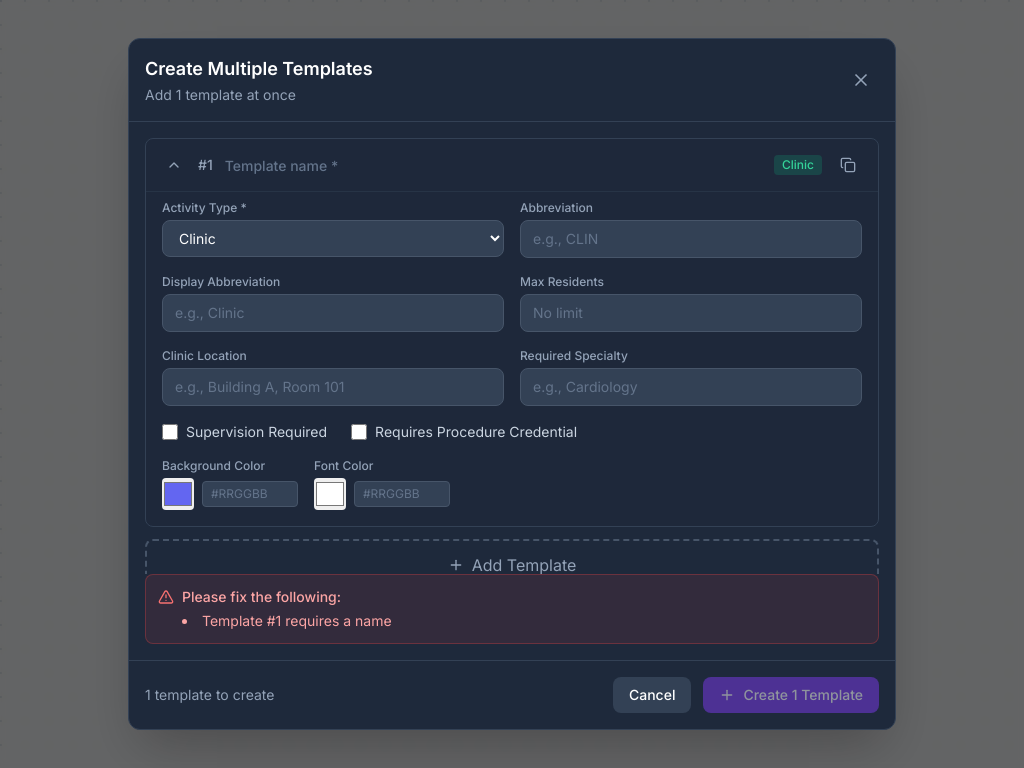
Test: BulkCreateModal › Template Management › should remove template when remove button is clicked
Note: Add second template
Click the button "Add Template" at (512, 565), box [145,539,879,591]
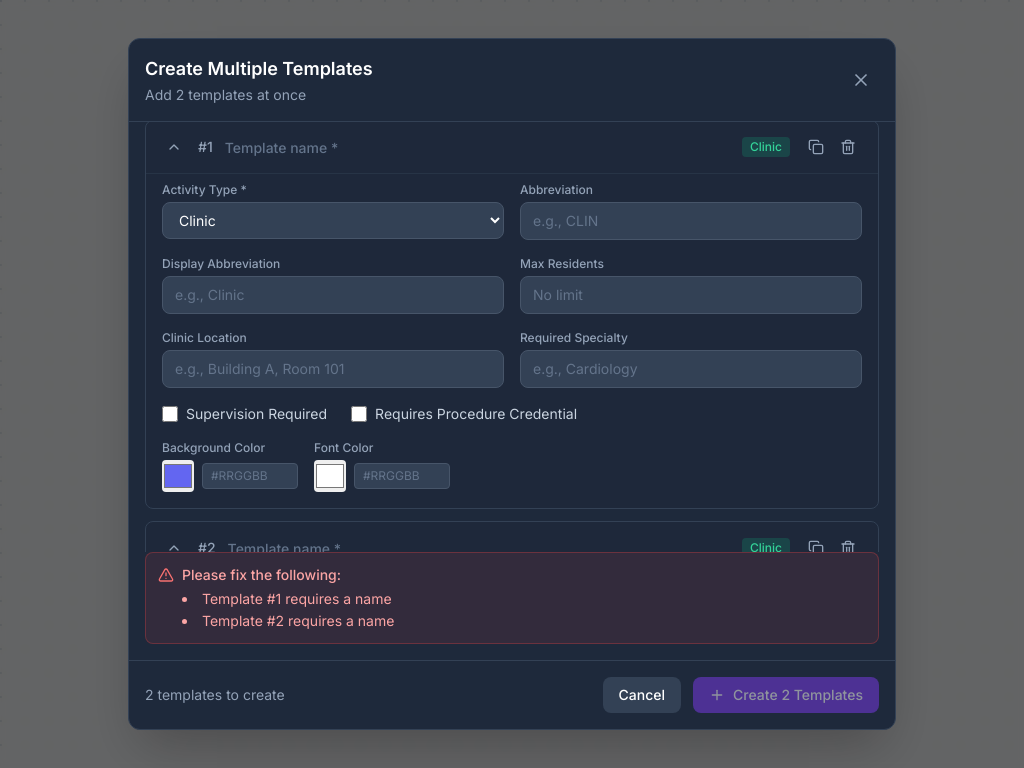
Check: the text "#2" is shown, box [198,538,216,552]
Note: Remove the second template
Click the 2nd button titled "Remove" at (848, 548), box [834,534,862,562]
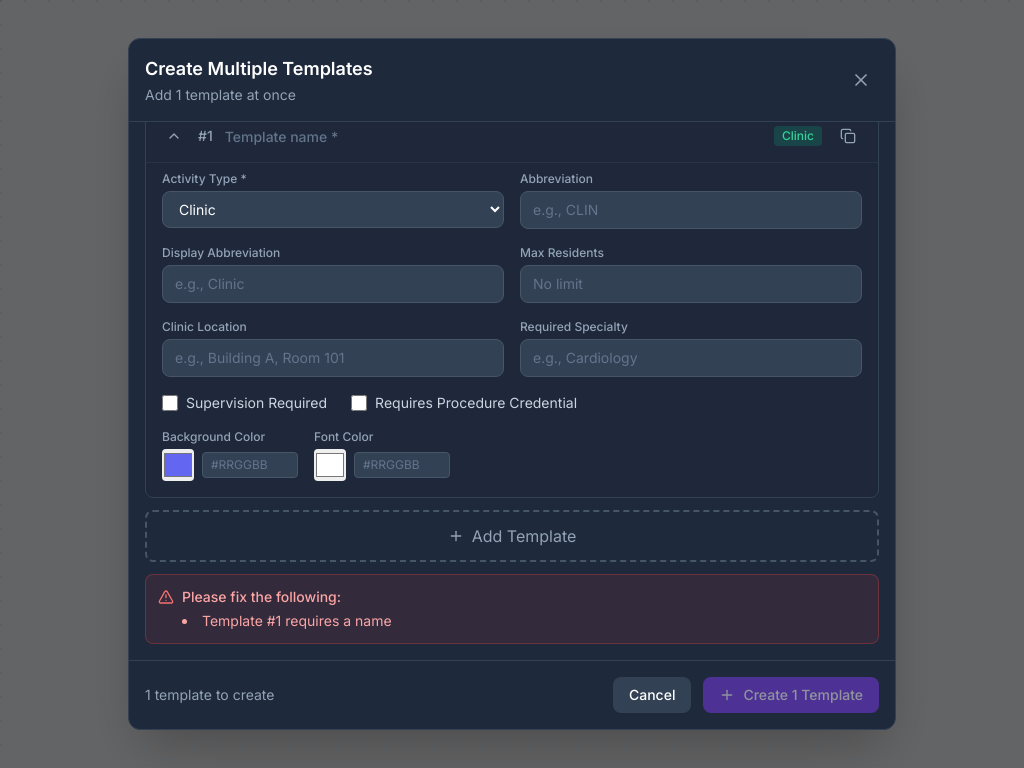
Check: the button "#2" is gone
Check: the text "Add 1 template at once" is shown, box [145,86,296,103]
